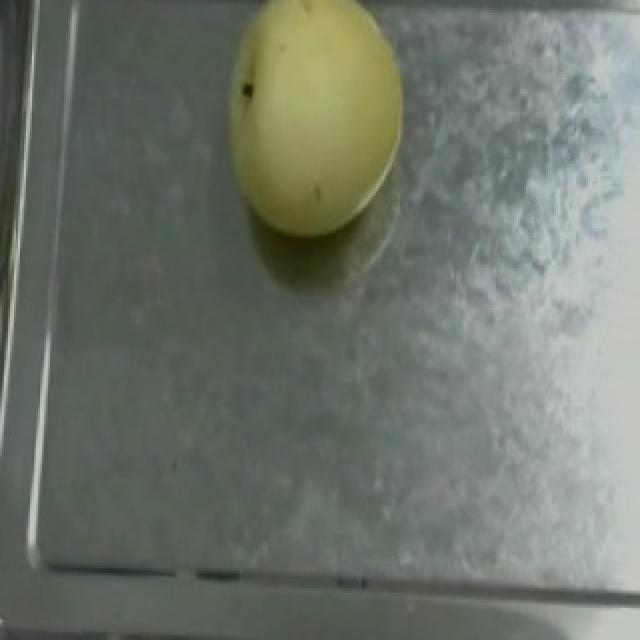Fruit: (206, 0, 430, 251)
